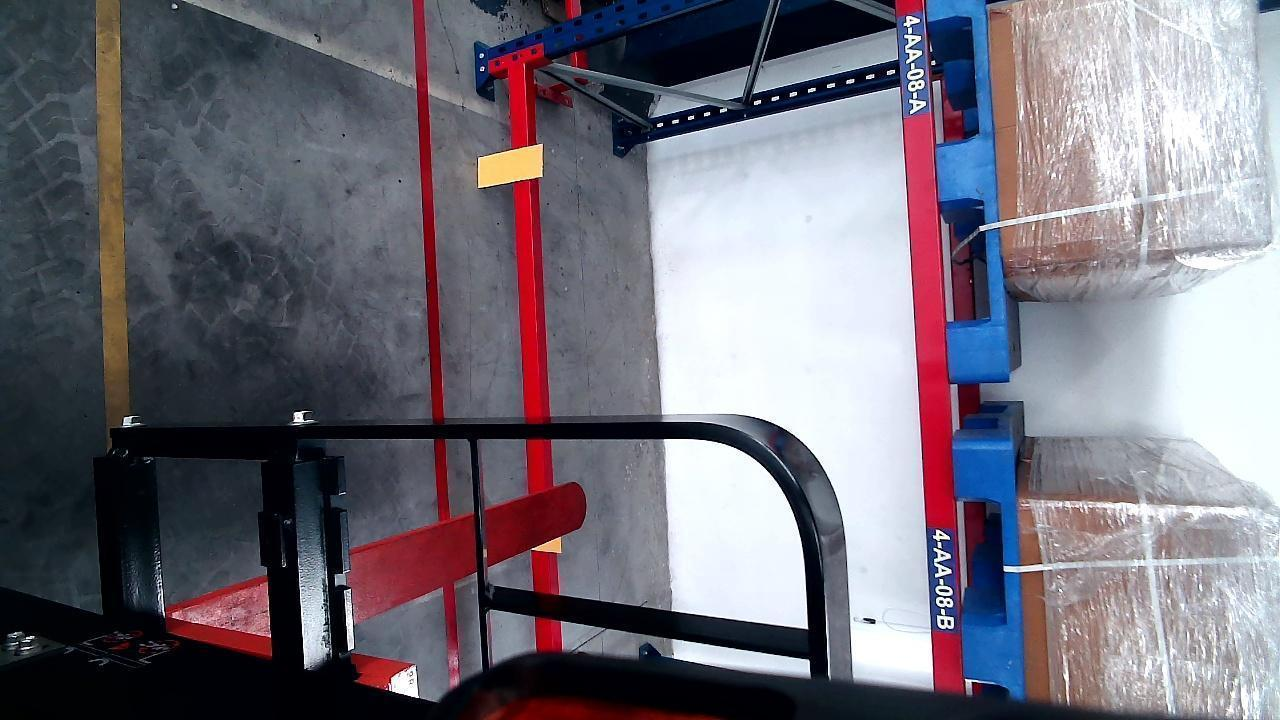red_line: (414, 0, 466, 693)
yellow_line: (98, 1, 129, 417)
